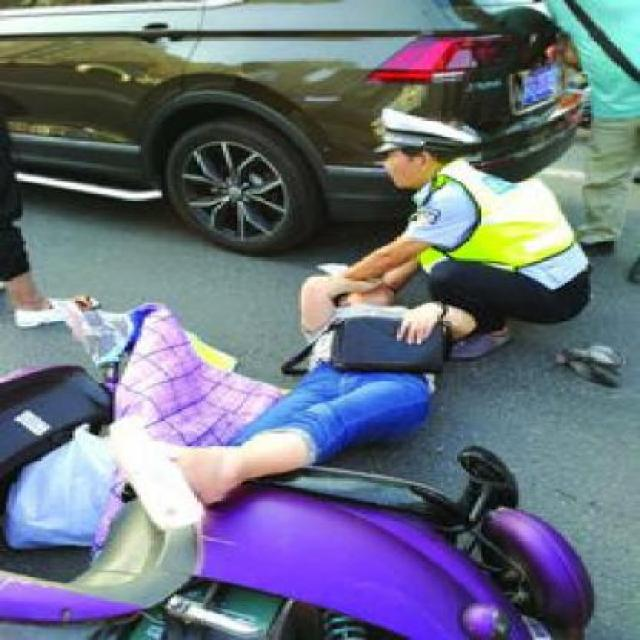fall: (90, 224, 475, 547)
